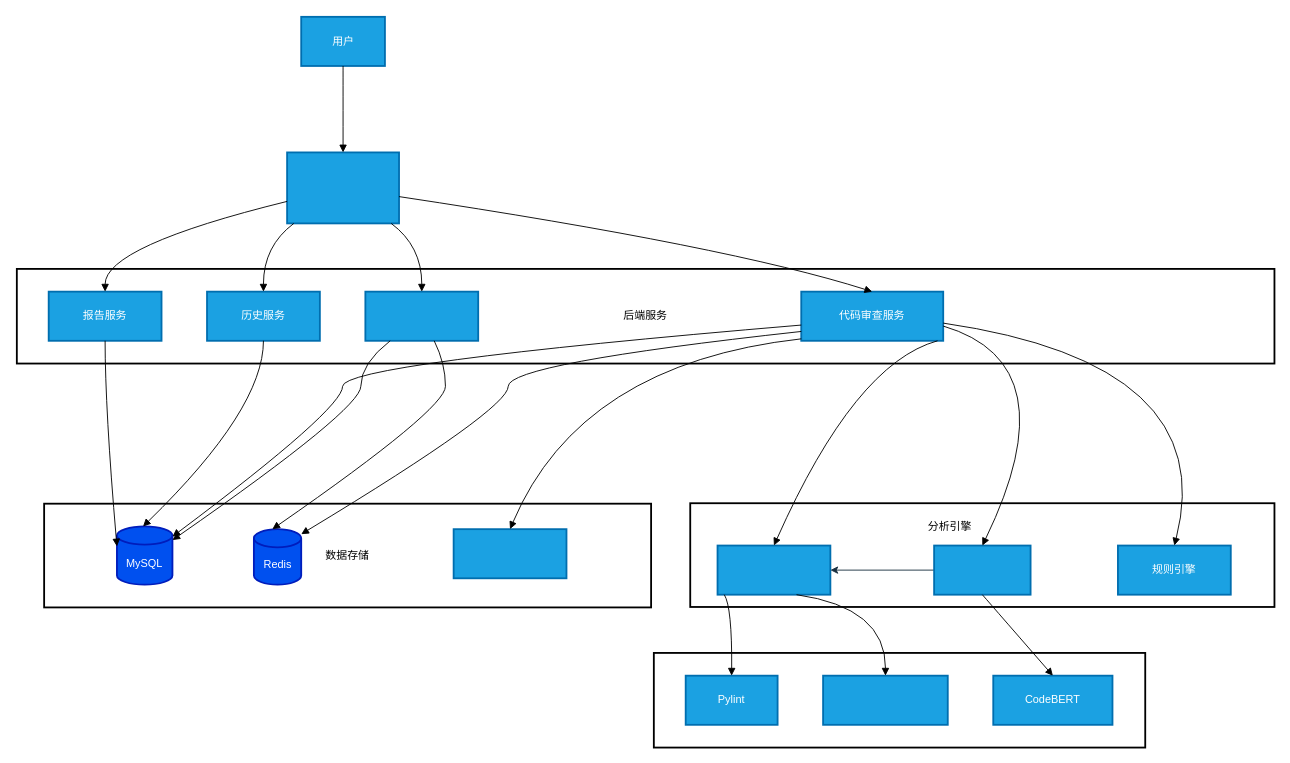
This 1290x763 diagram has some shape labels left out. Each missing label, with the centre of its shape:
"AI分析" belongs at point (982, 569).
"Checkstyle" belongs at point (885, 699).
"Web前端 Vue.js" belongs at point (342, 187).
"文件存储" belongs at point (509, 553).
"认证服务" belongs at point (421, 315).
"静态分析" belongs at point (773, 569).
